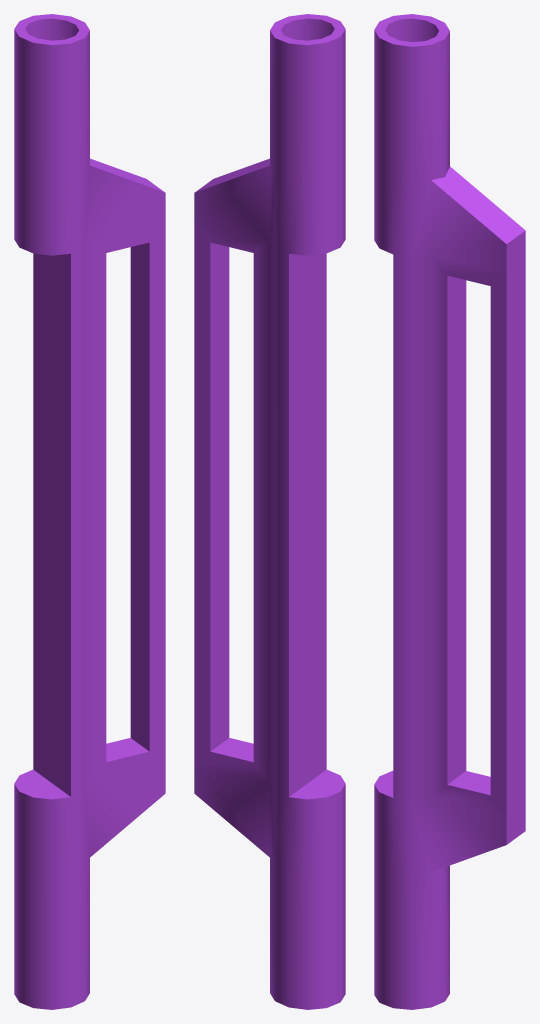
The model's file is Rallings_GlassHolder.FBX.
3 renders of one model, left to right at view 1: azimuth 30°, elevation 25°; view 2: azimuth 150°, elevation 25°; view 3: azimuth 330°, elevation 25°, orthographic.
Parts seen in each view (by area): view 1: Rallings_GlassHolder; view 2: Rallings_GlassHolder; view 3: Rallings_GlassHolder.
Boxes of the visible parts, x1,y1,x2,y2 form: Rallings_GlassHolder: (14, 14, 165, 1009); Rallings_GlassHolder: (194, 14, 345, 1009); Rallings_GlassHolder: (374, 14, 525, 1009).
Bounding box in the file's own units: 29.18 × 197 × 14.
